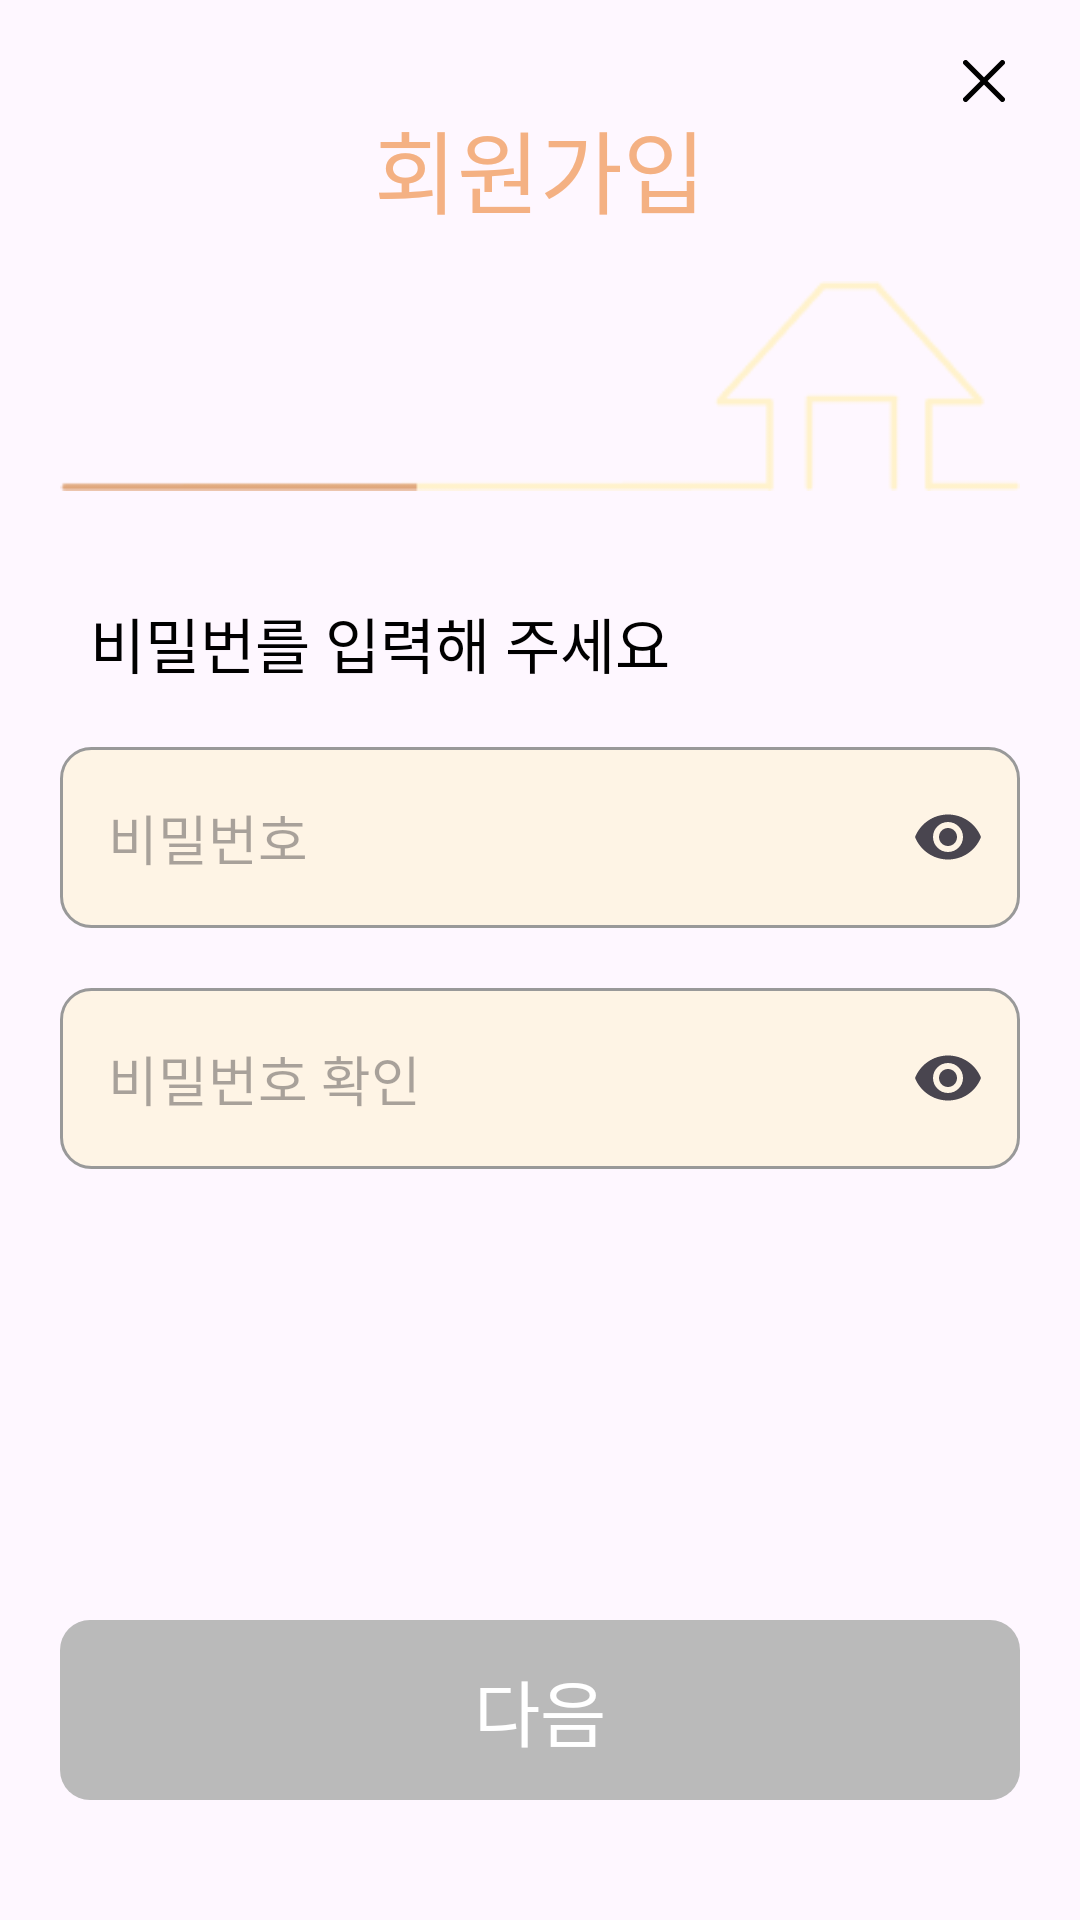

Named icons in this screenshot (1080 x 1920) and their bounding boxes, region(x1, y1, x2, y2):
close: region(963, 60, 1005, 102)
